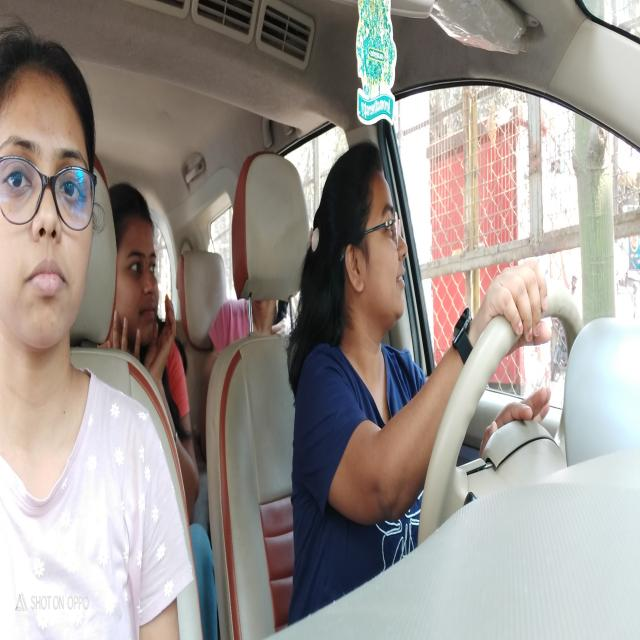LeftRight: (311, 128, 415, 353)
person: (0, 24, 116, 408), (108, 169, 168, 356)
